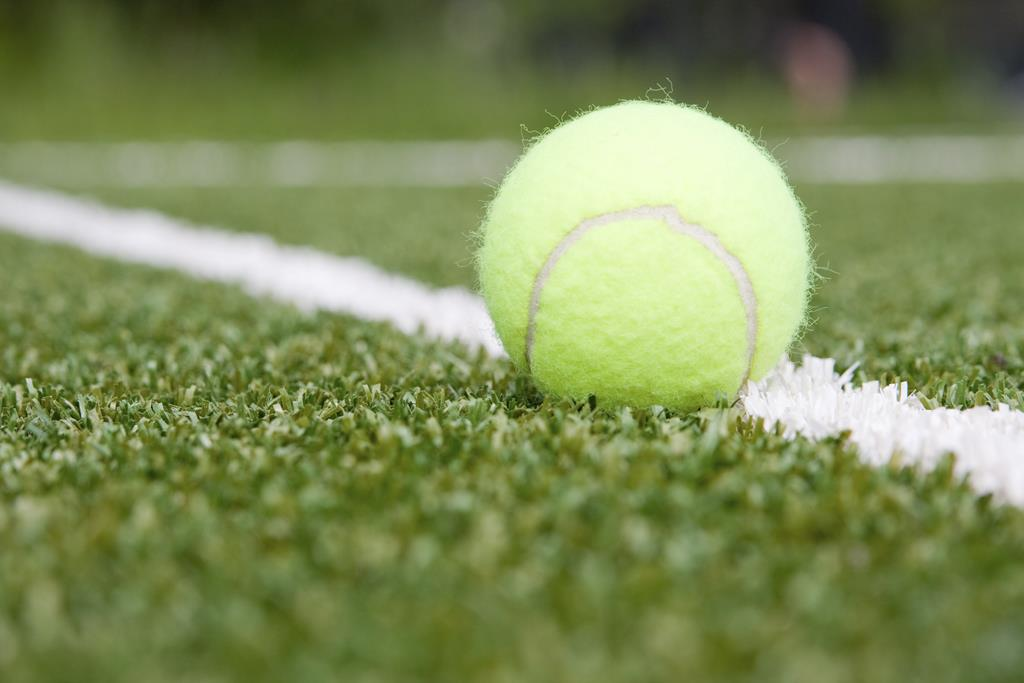tennis_ball: (472, 97, 821, 413)
